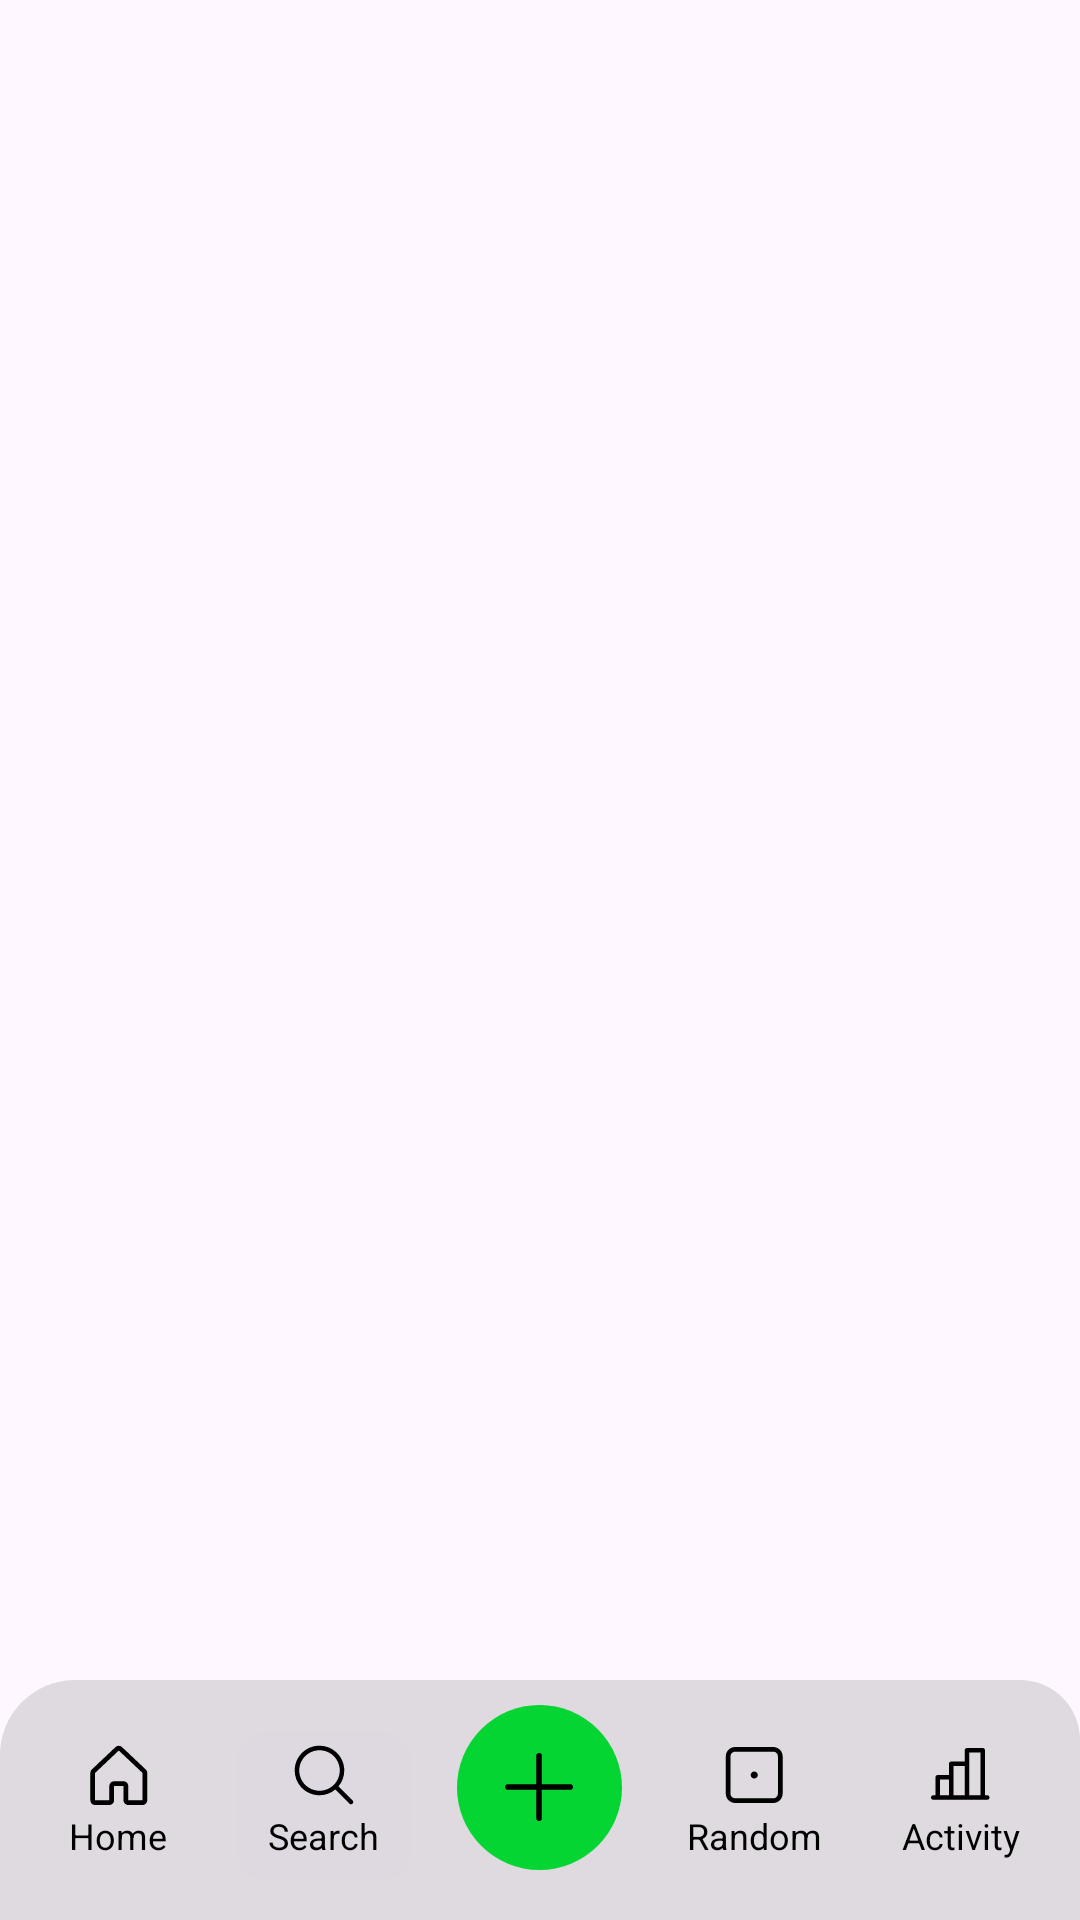

Point at icon controls on the screen. Image size 1080×1920, points as [x,y].
plus: [539,1787]
